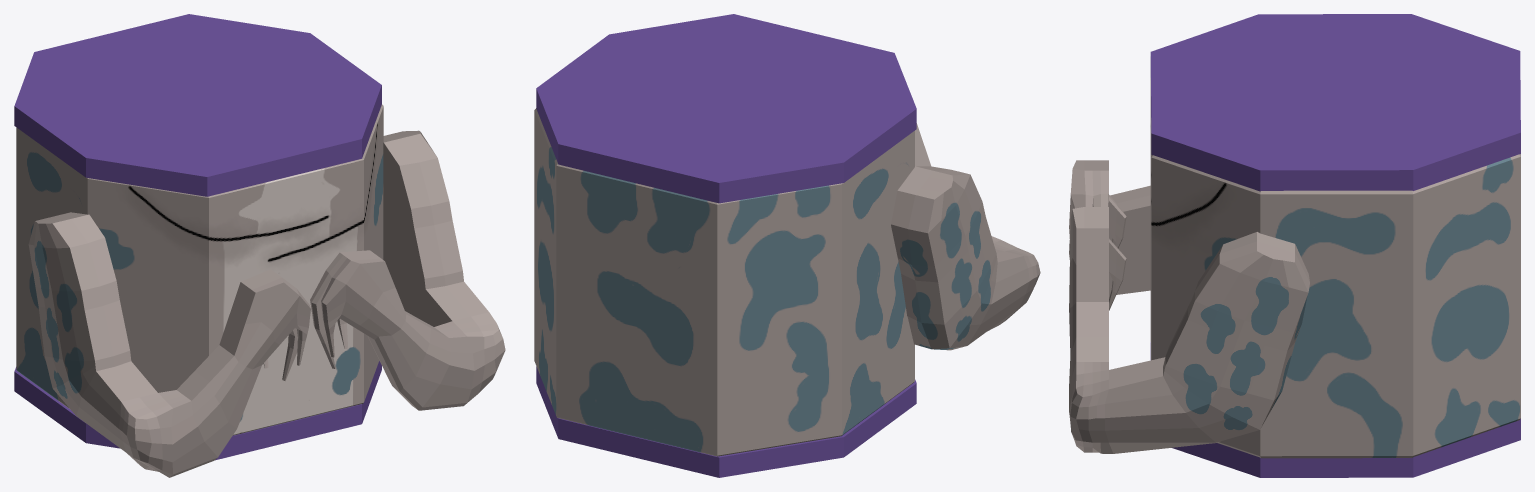
File: medio_lagarto.fbx
The picture shows the model from 3 angles, left to right: view 1: azimuth 30°, elevation 25°; view 2: azimuth 150°, elevation 25°; view 3: azimuth 270°, elevation 25°; orthographic projection. The views are drawn at different scales.
Visible parts, largest first — view 1: Cube, Circle.007, Circle.010, Circle.011; view 2: Circle.007, Circle.010, Cube, Circle.011; view 3: Circle.007, Circle.010, Cube, Circle.011.
Boxes of the visible parts, x1,y1,x2,y2 form: Cube: (28, 130, 505, 477); Circle.007: (16, 104, 383, 435); Circle.010: (14, 14, 381, 196); Circle.011: (14, 361, 381, 460); Circle.007: (534, 108, 914, 456); Circle.010: (536, 14, 916, 203); Cube: (891, 123, 1040, 350); Circle.011: (536, 366, 916, 477); Circle.007: (1150, 78, 1520, 458); Circle.010: (1150, 14, 1520, 191); Cube: (1069, 160, 1309, 453); Circle.011: (1150, 342, 1520, 477).
Bounding box in the file's own units: 332 × 239 × 316.
